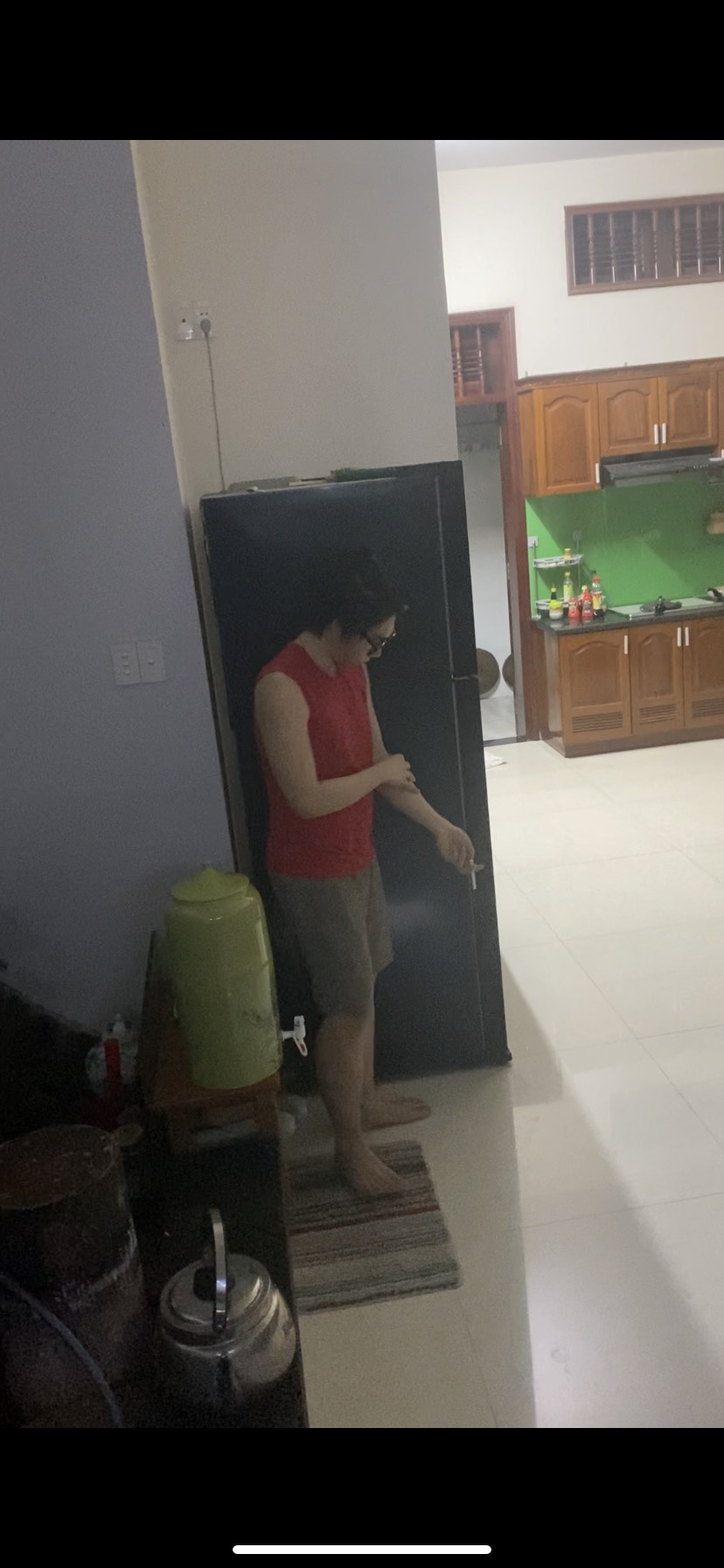cigarette: (467, 869, 481, 895)
person: (252, 578, 483, 1200)
